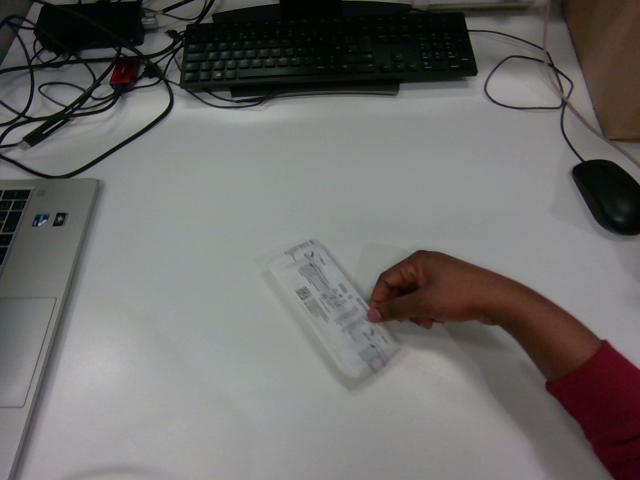syringe: (267, 240, 399, 382)
